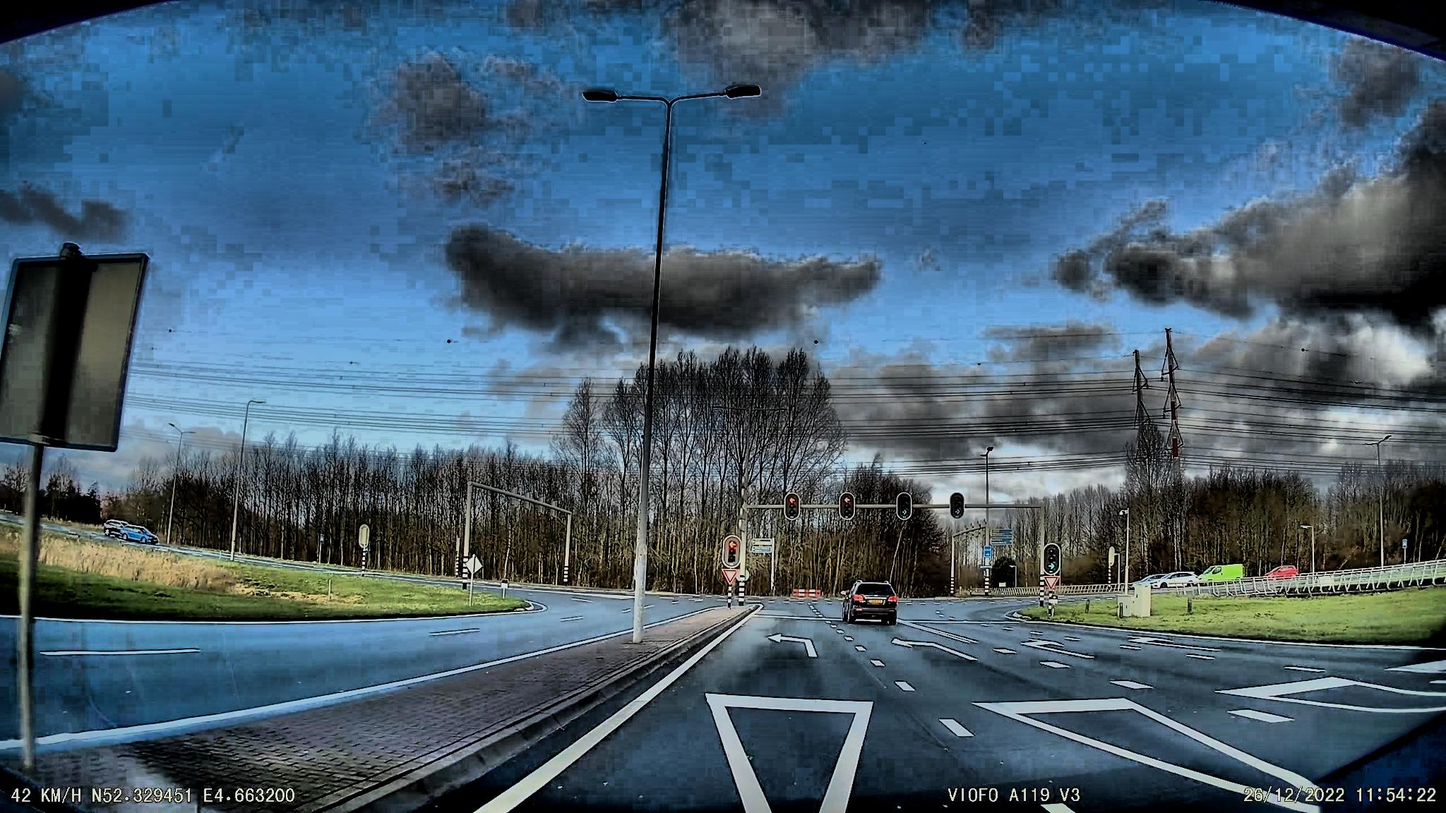Roads: (506, 592, 1446, 813), (29, 589, 753, 737)
